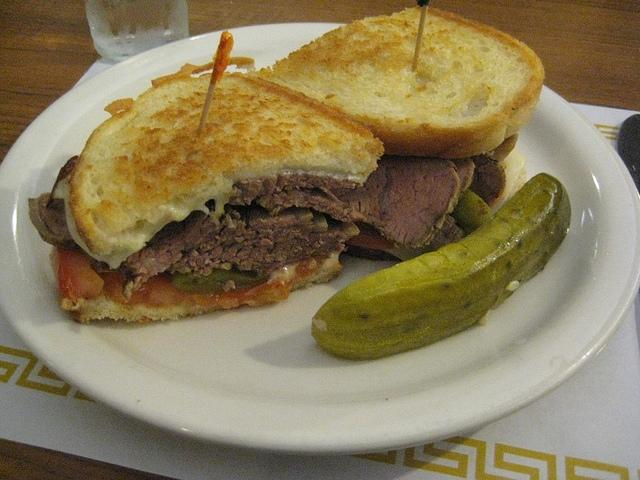tomato: (51, 246, 292, 310), (345, 234, 393, 250)
